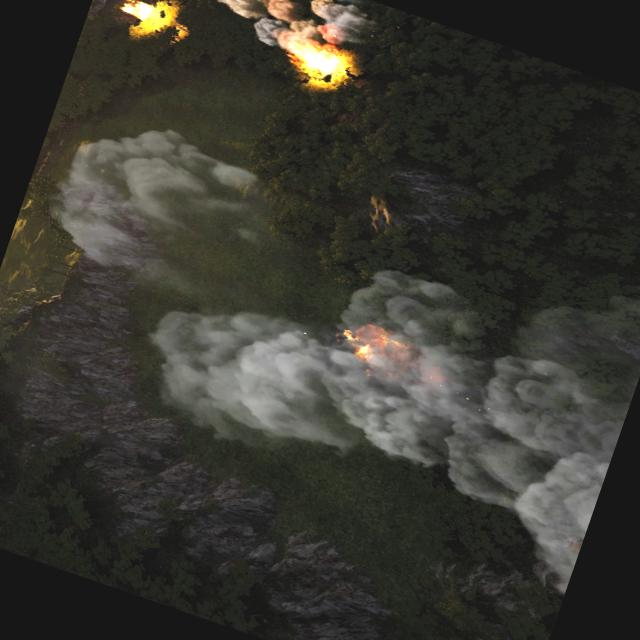fire: (336, 316, 411, 372), (282, 32, 354, 86), (96, 0, 184, 39)
smoke: (109, 194, 640, 608), (42, 99, 276, 306), (182, 0, 374, 70)
